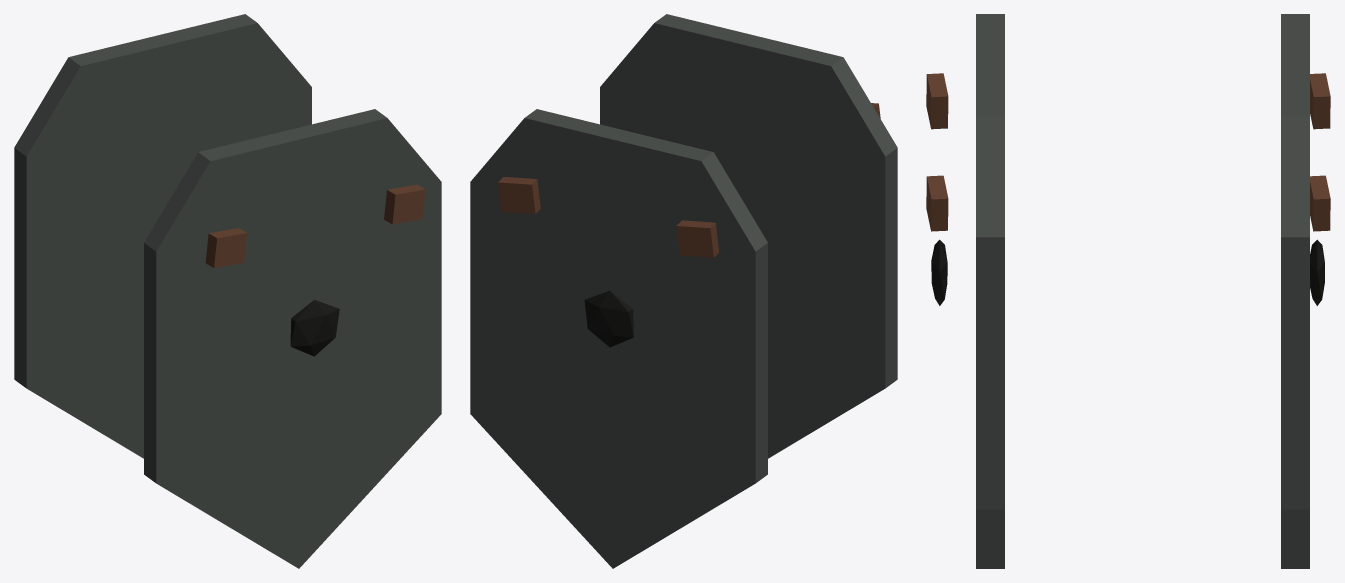
Rendered from lock-cases.glb.
3 renders of one model, left to right at view 1: azimuth 30°, elevation 25°; view 2: azimuth 150°, elevation 25°; view 3: azimuth 270°, elevation 25°, orthographic. The views are drawn at different scales.
Parts seen in each view (by area): view 1: Iron, Stone; view 2: Iron, Stone; view 3: Iron, Stone.
Part boxes in pixels (left/top/right/bottom): Iron: left=14, top=14, right=441, bottom=568; Stone: left=290, top=300, right=339, bottom=356; Iron: left=470, top=14, right=897, bottom=568; Stone: left=584, top=290, right=633, bottom=347; Iron: left=926, top=14, right=1330, bottom=568; Stone: left=931, top=239, right=1324, bottom=305.
Bounding box in the file's own units: 0.16 × 0.23 × 0.1671.
